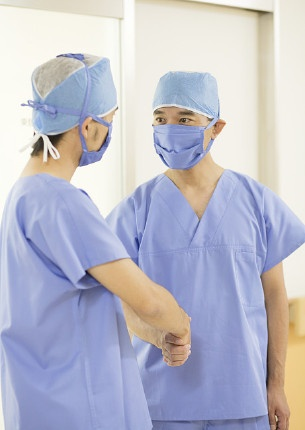Mask: (153, 102, 217, 167)
